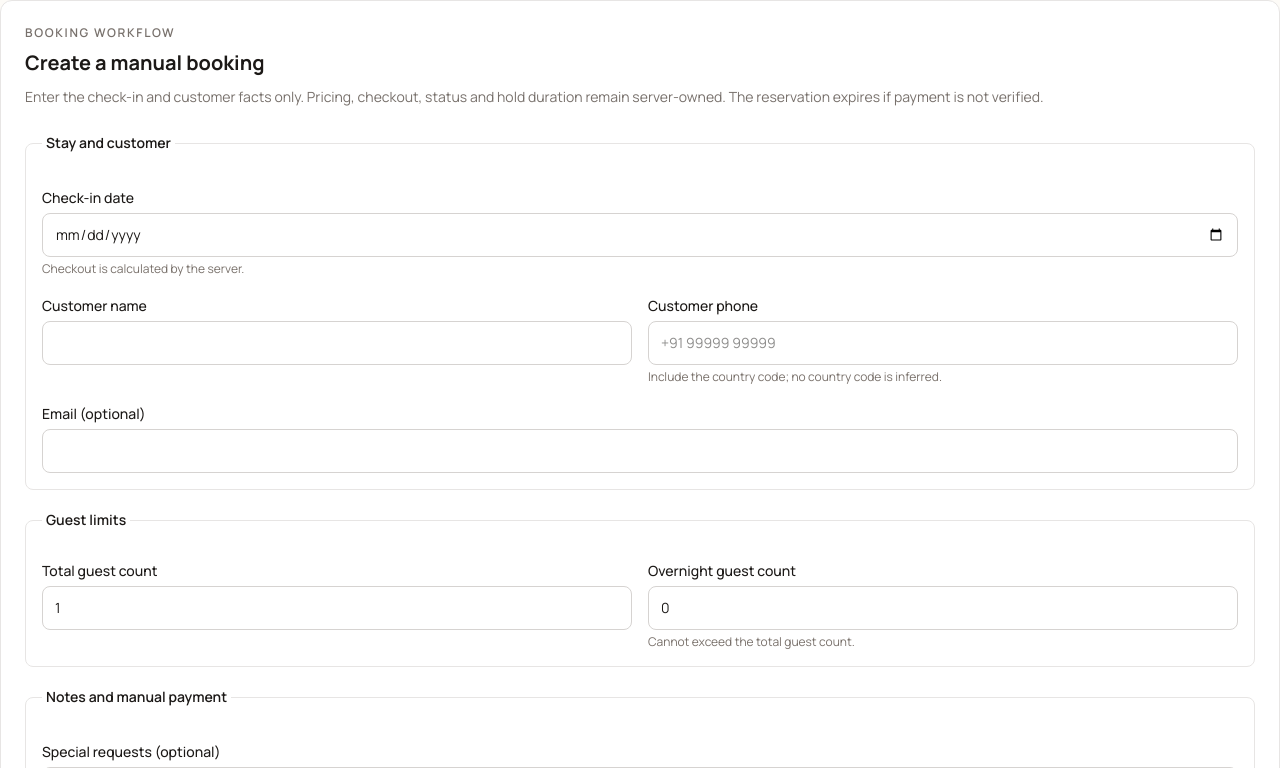
manual booking form › renders server field errors beside the relevant input
Type "2026-08-01" into the date field labelled "Check-in date" at {"x": 640, "y": 235}, box [42,213,1238,257]
Type "Guest Name" into the field labelled "Customer name" at {"x": 337, "y": 343}, box [42,321,632,365]
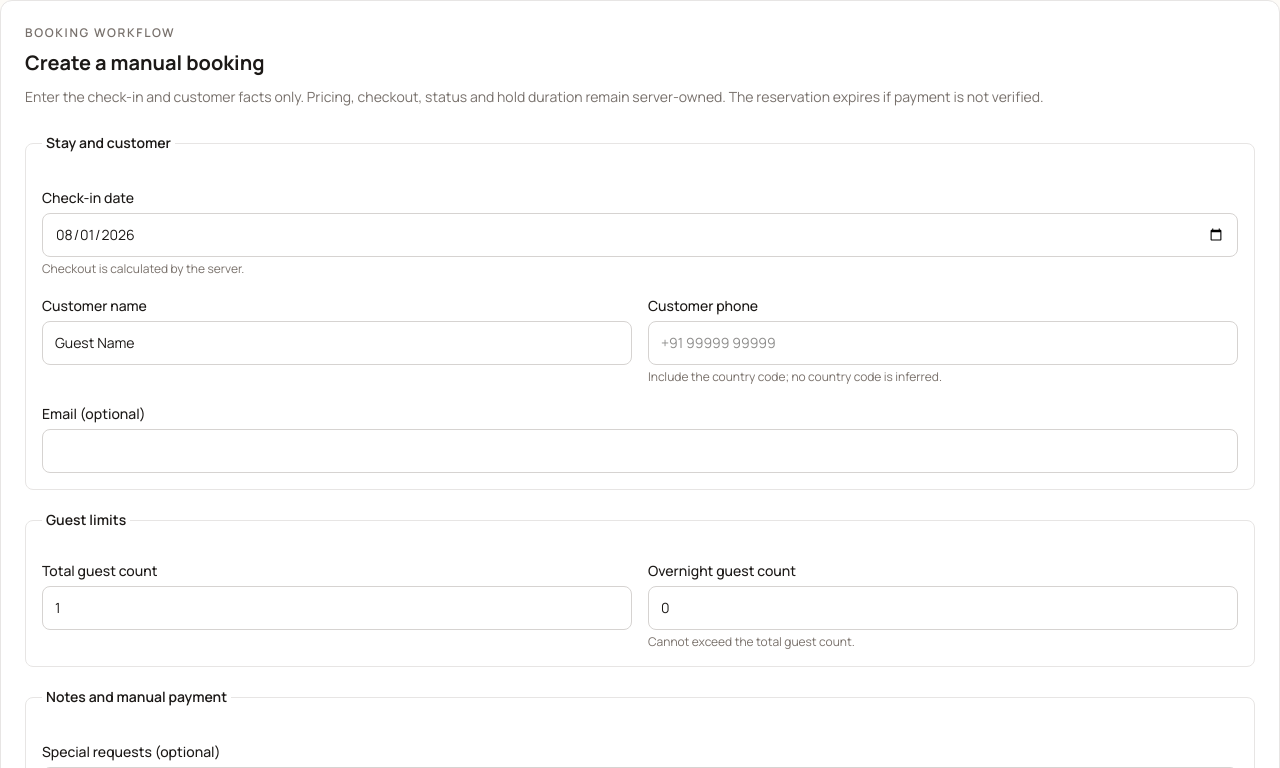
Type "+91 99999 00001" into the field labelled "Customer phone" at {"x": 943, "y": 343}, box [648,321,1238,365]
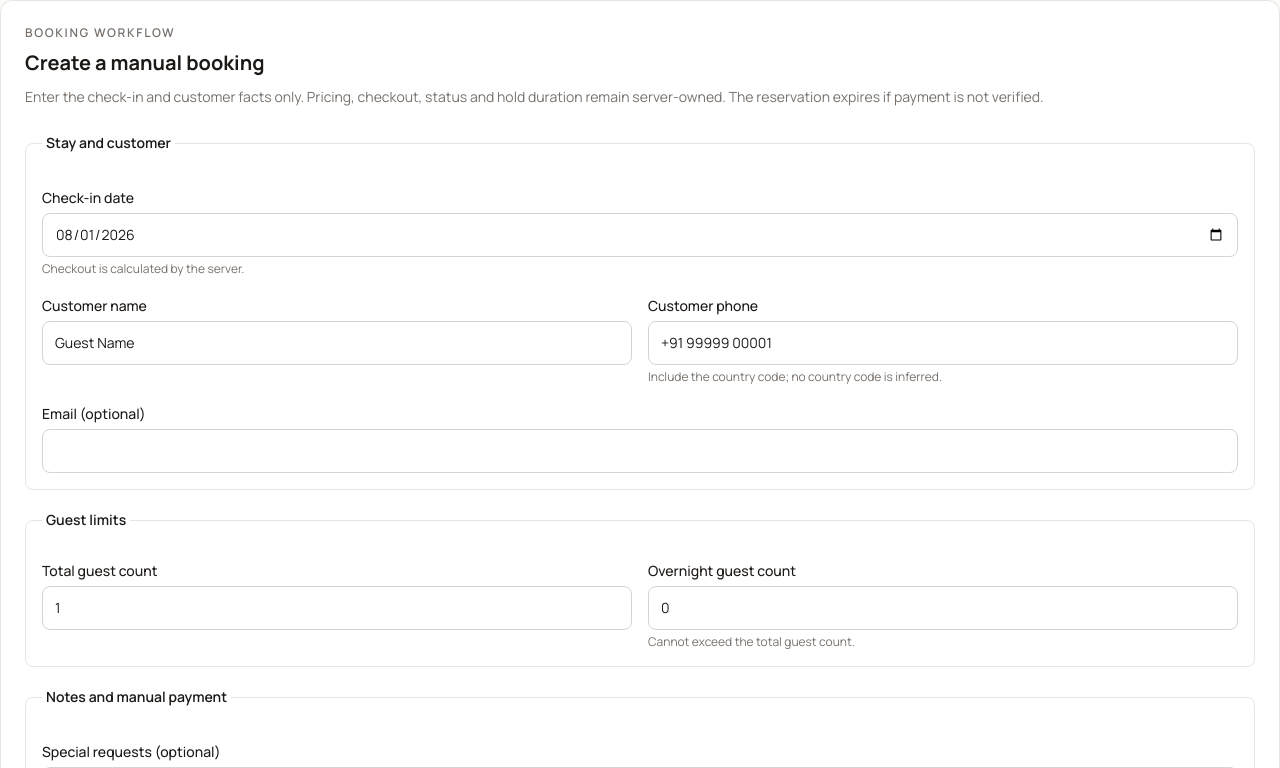
Replace the text in the number field labelled "Total guest count" with "4" at {"x": 337, "y": 608}, box [42,586,632,630]
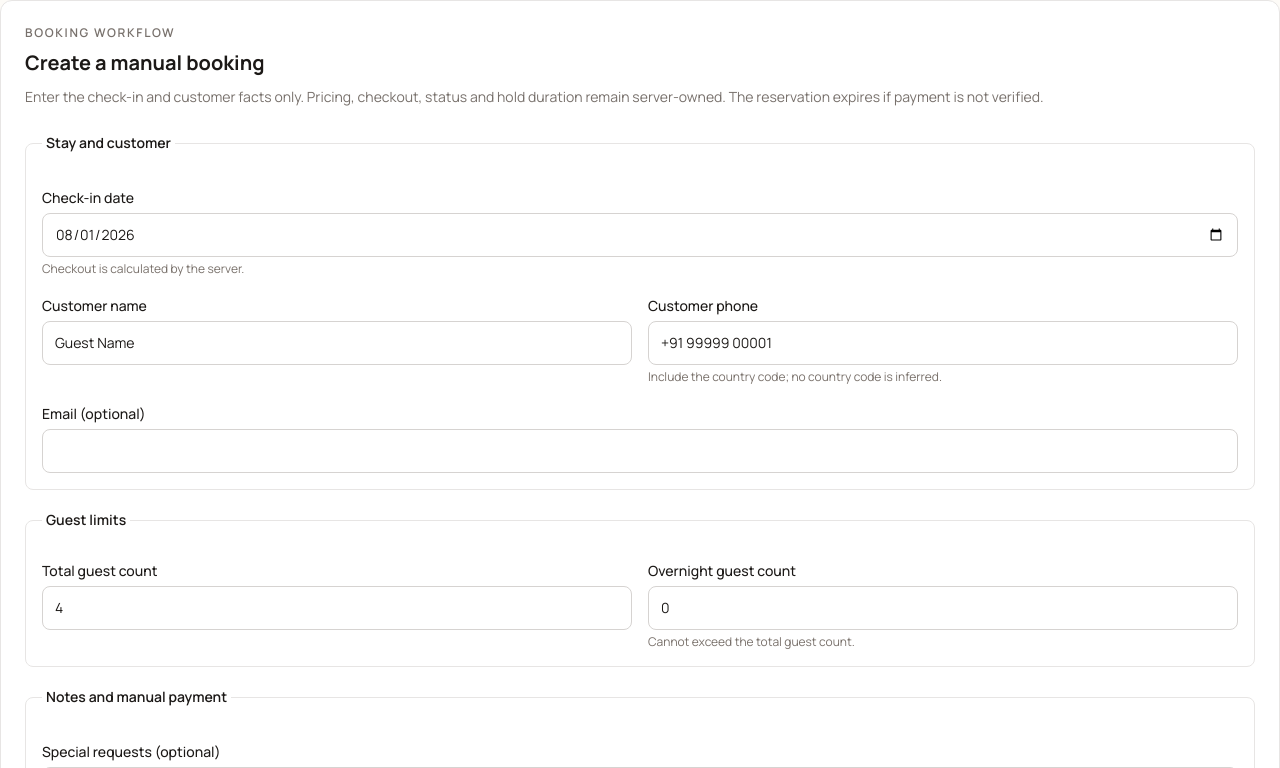
Replace the text in the number field labelled "Overnight guest count" with "2" at {"x": 943, "y": 608}, box [648,586,1238,630]
(page scrolled)
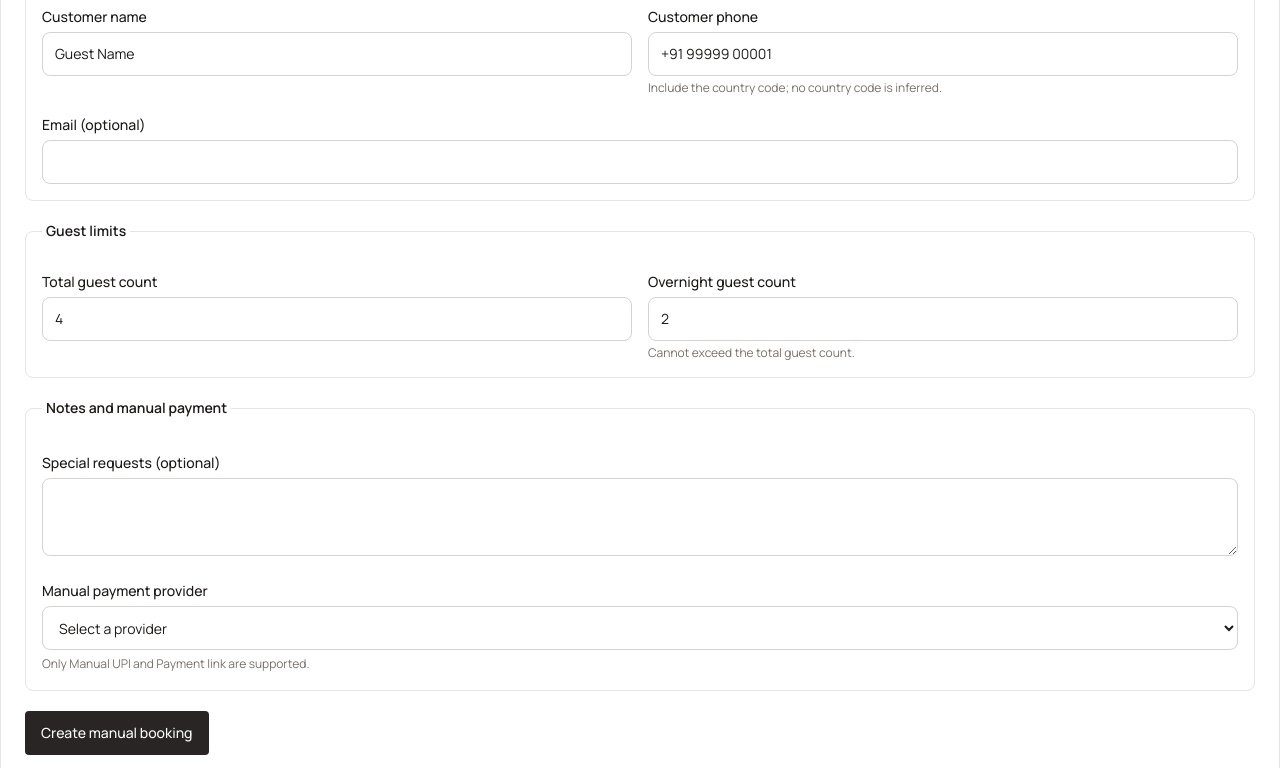
Select "Manual UPI" in the dropdown labelled "Manual payment provider" at {"x": 640, "y": 628}, box [42,606,1238,650]
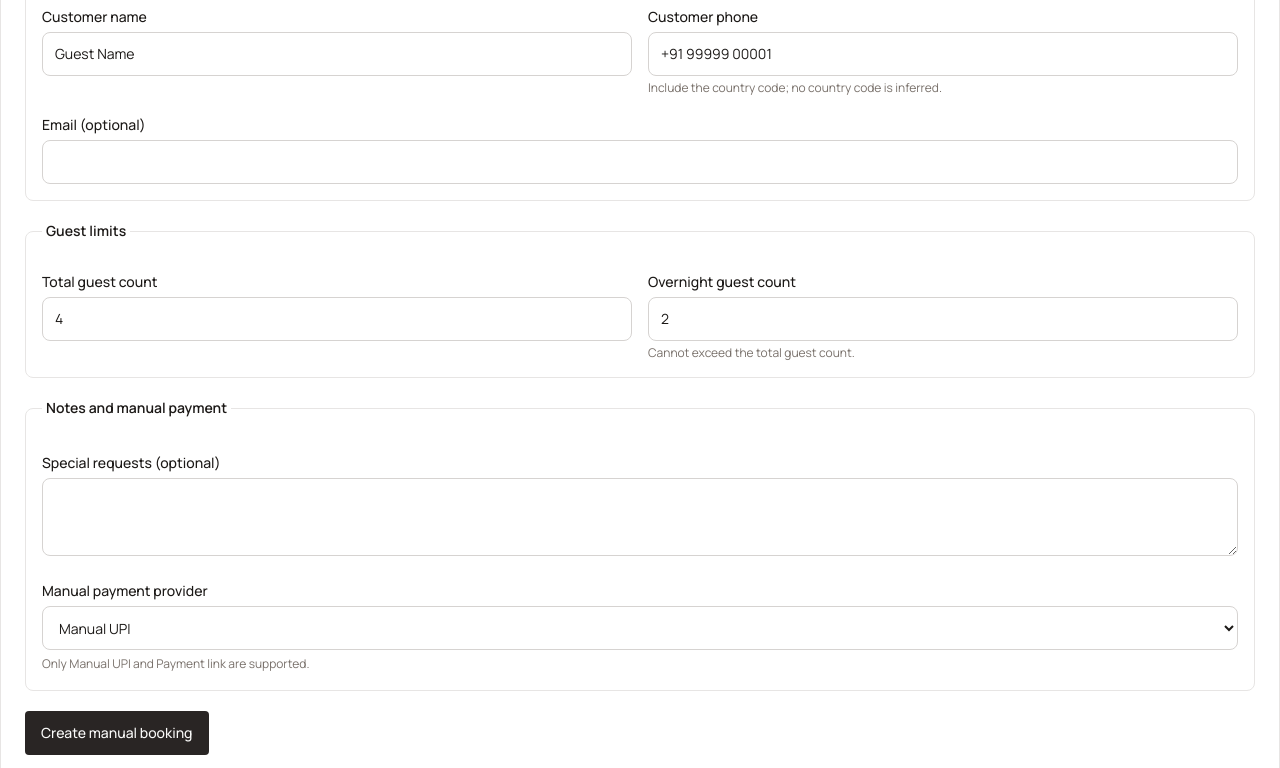
Click the button "Create manual booking" at {"x": 117, "y": 733}, box [25,711,208,755]
(page scrolled)
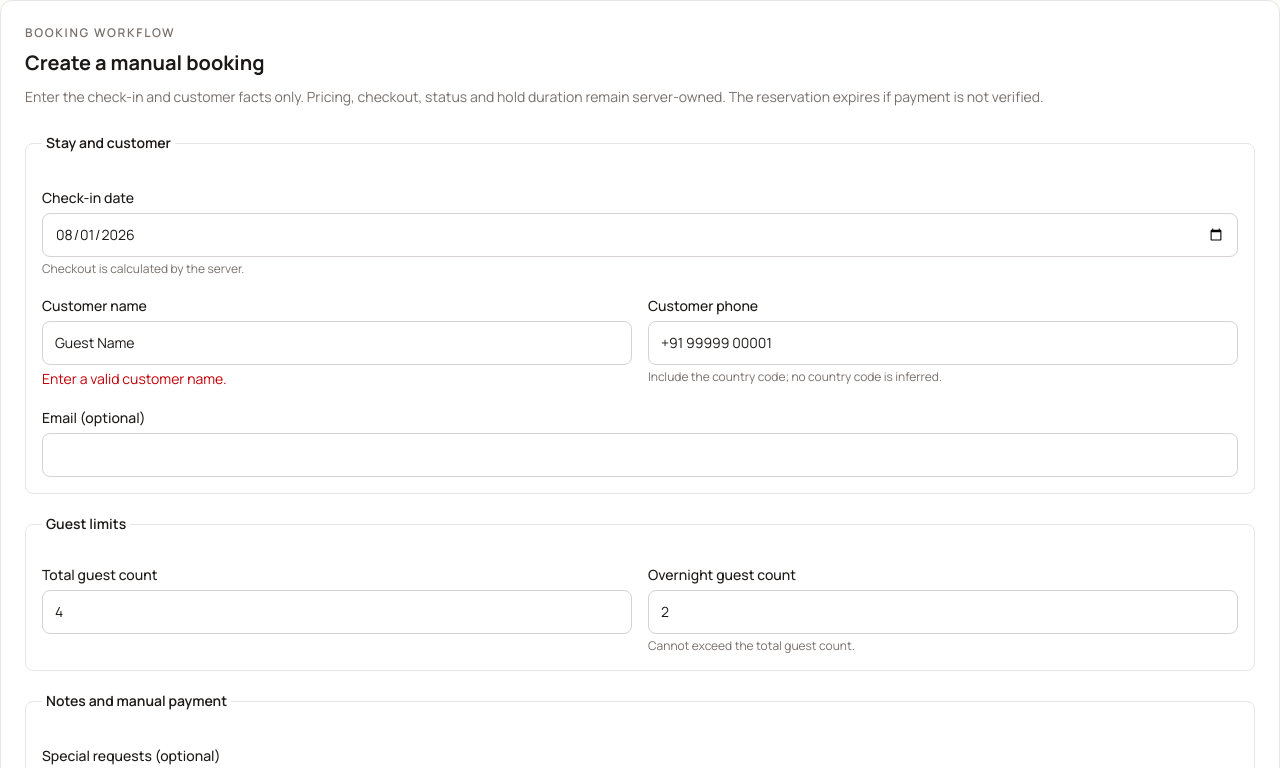
Result: the text "Enter a valid customer name." is shown at [42,369,227,388]
